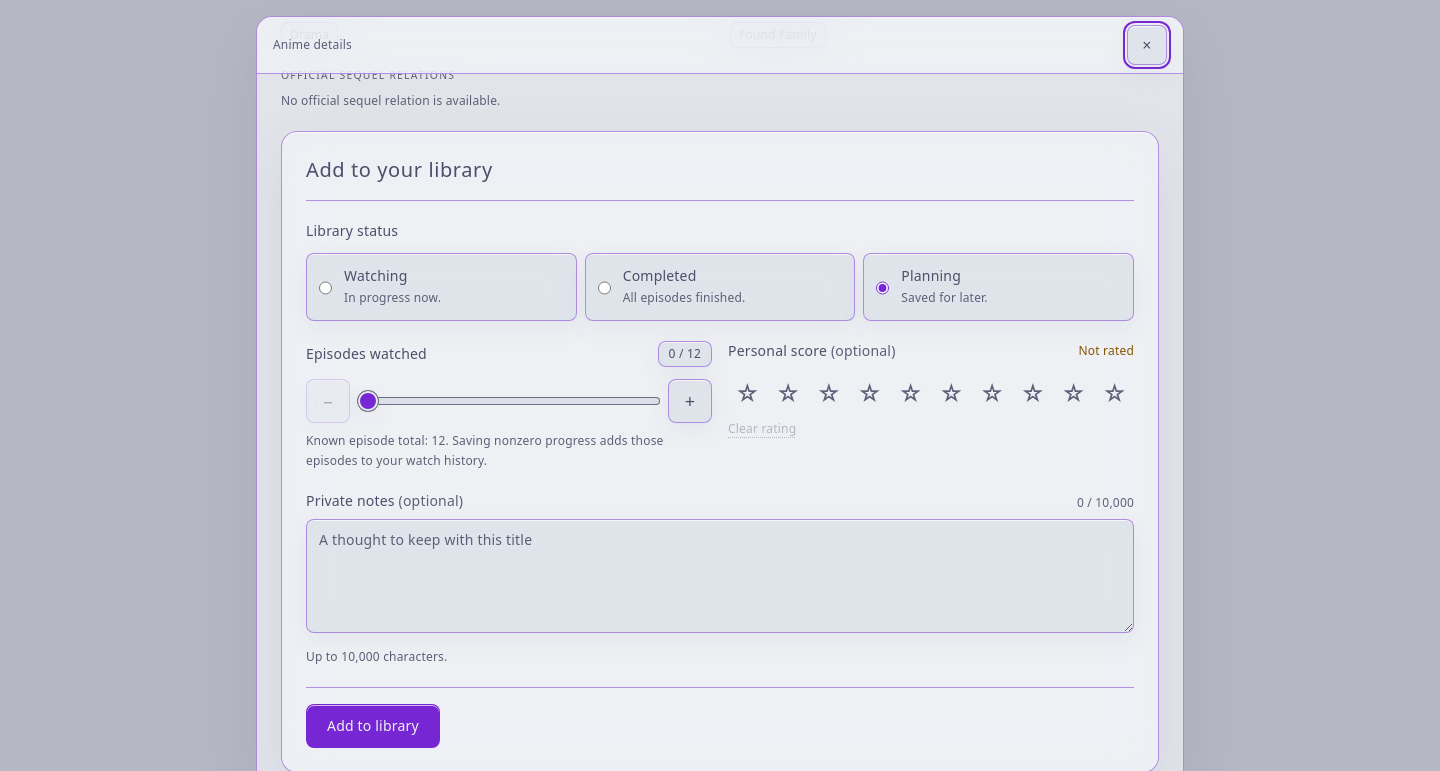
Test: MediaDetailsDialog › forwards saved and removed entries while keeping editor state in sync
This screenshot has width=1440, height=771.
(page scrolled)
Step 1. Click the button "Add to library" → (373, 726), box [306,704,440,748]
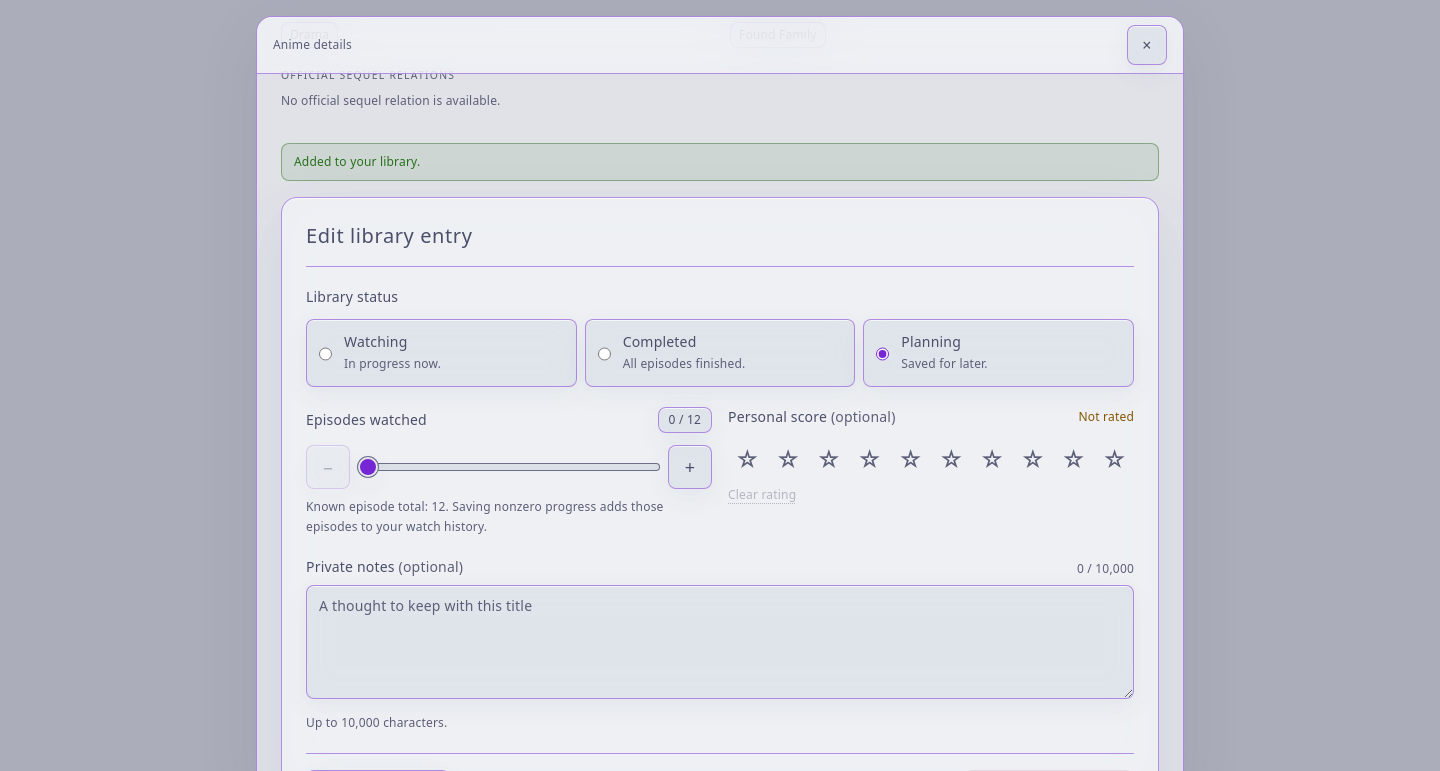
Now the heading "Edit library entry" is shown, box [306,222,472,249]
Step 2. Type "Watch again." into the text box labelled "Private notes (optional)" → (720, 642), box [306,585,1134,699]
(page scrolled)
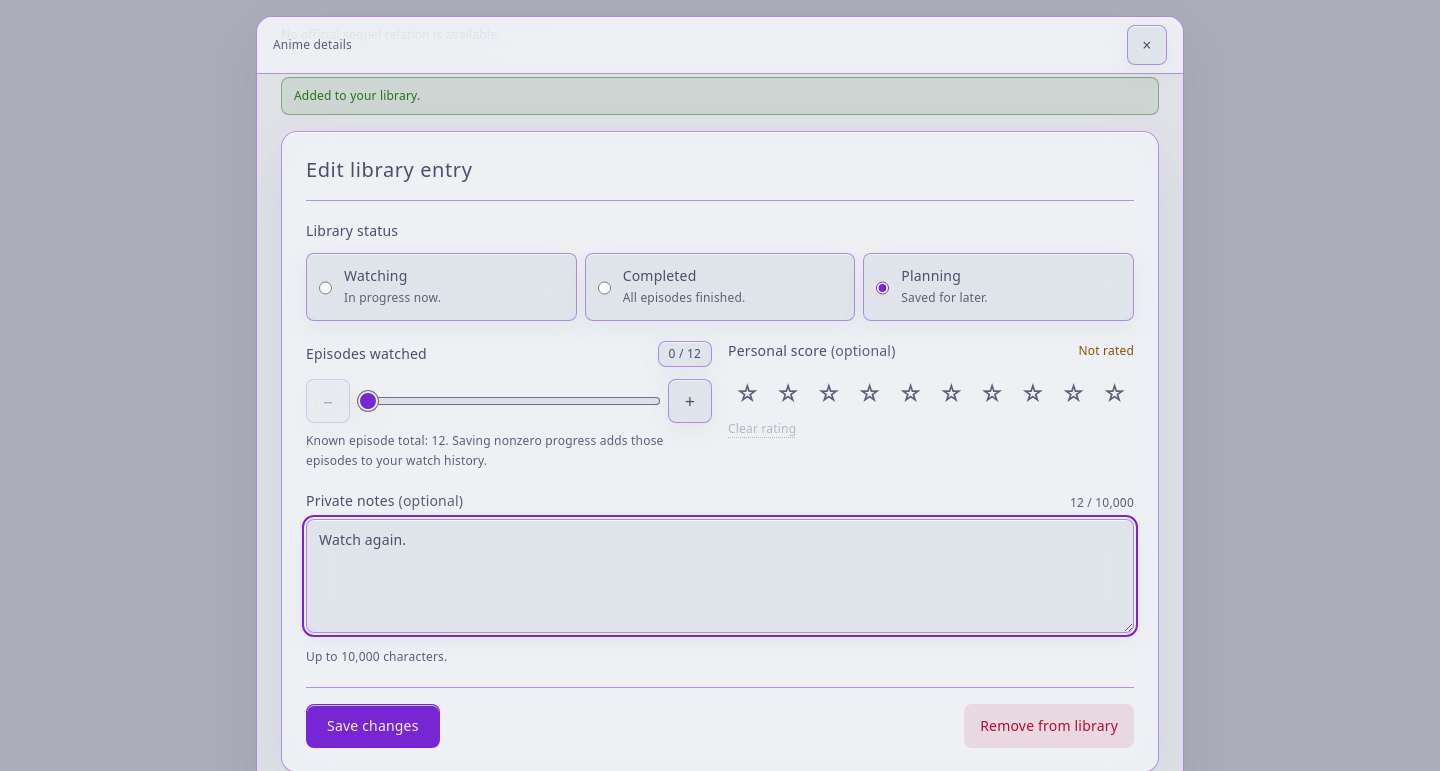
Now the button "Save changes" is enabled
Step 3. Click the button "Save changes" → (373, 726), box [306,704,440,748]
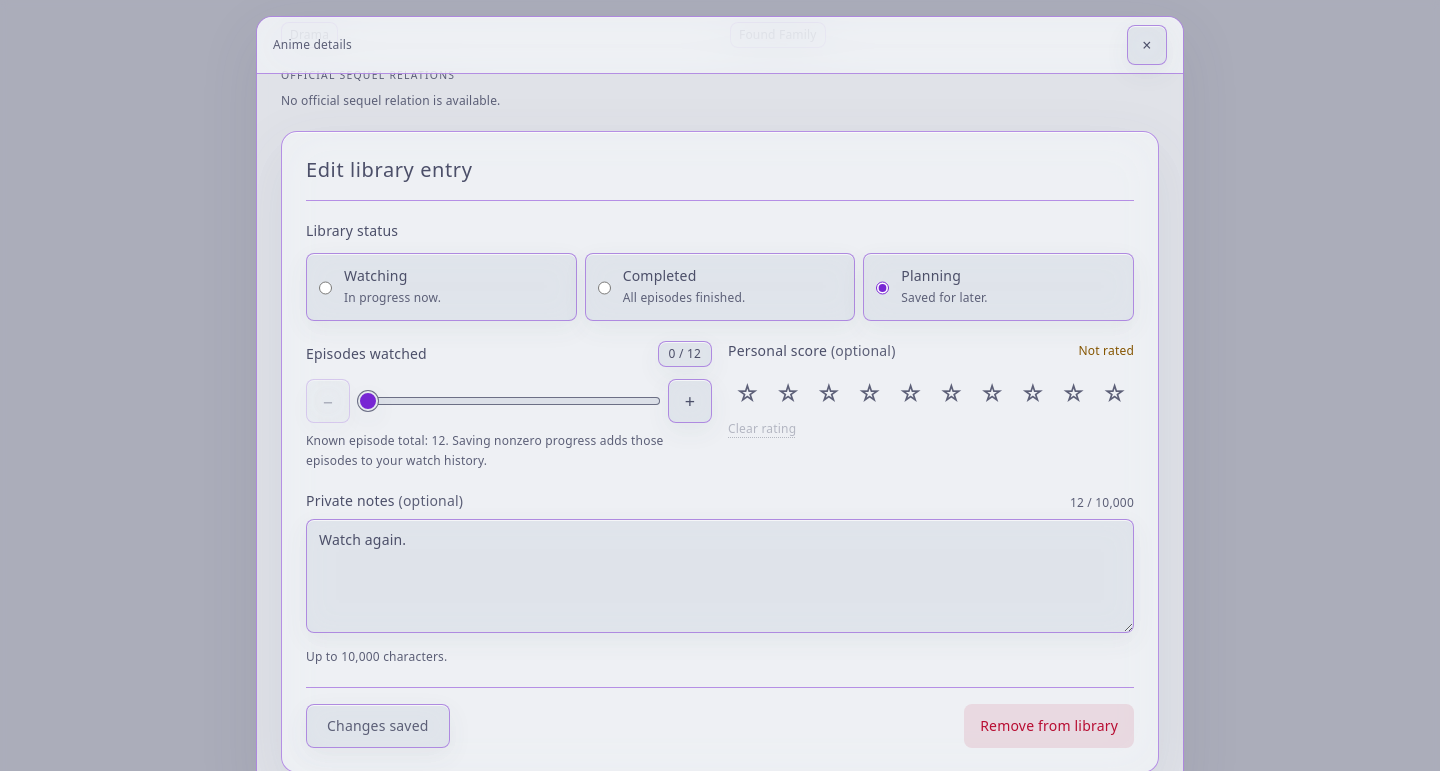
Now the button named "Save changes" is disabled, box [306,704,450,748]
Step 4. Click the button "Remove from library" → (1049, 726), box [964,704,1134,748]
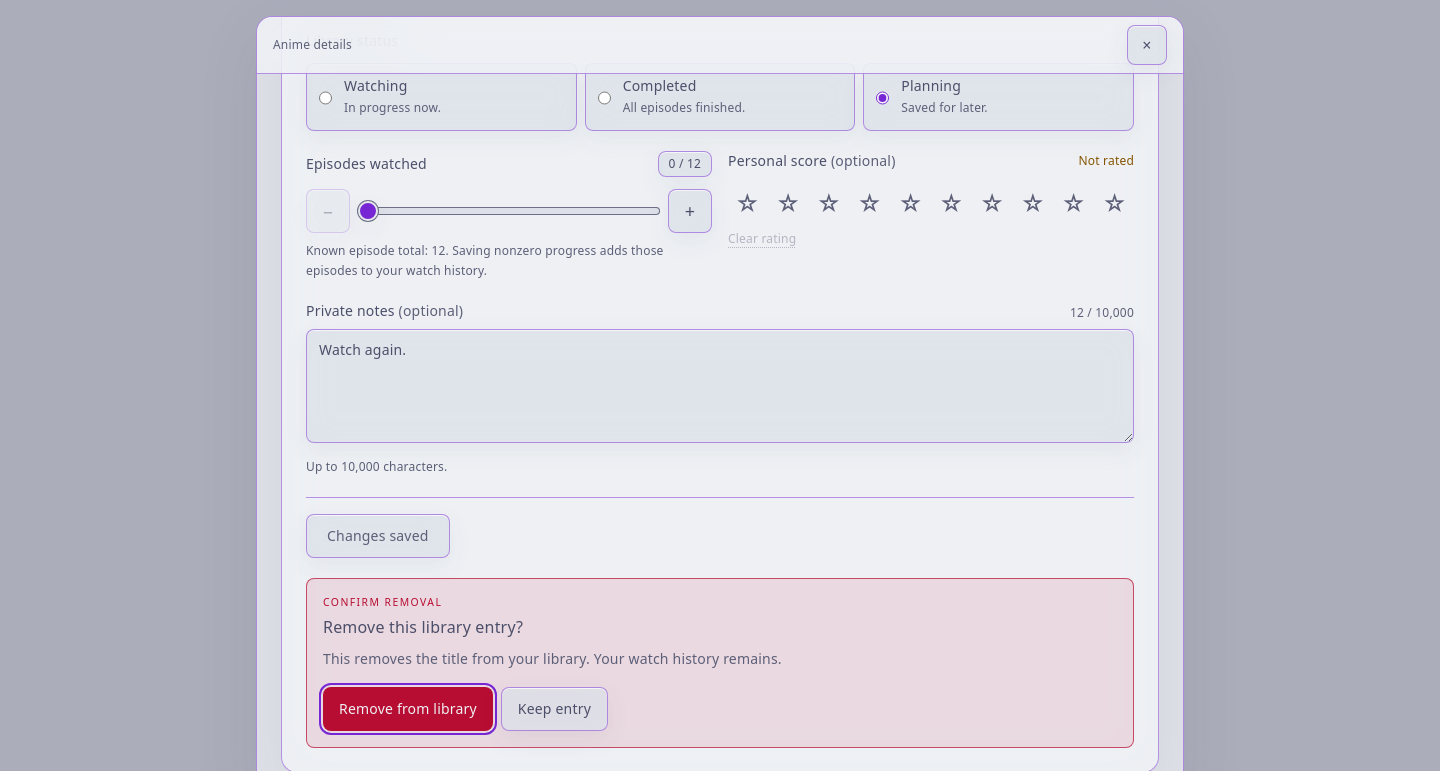
Step 5. Click the button "Remove from library" → (408, 709), box [323,687,493,731]
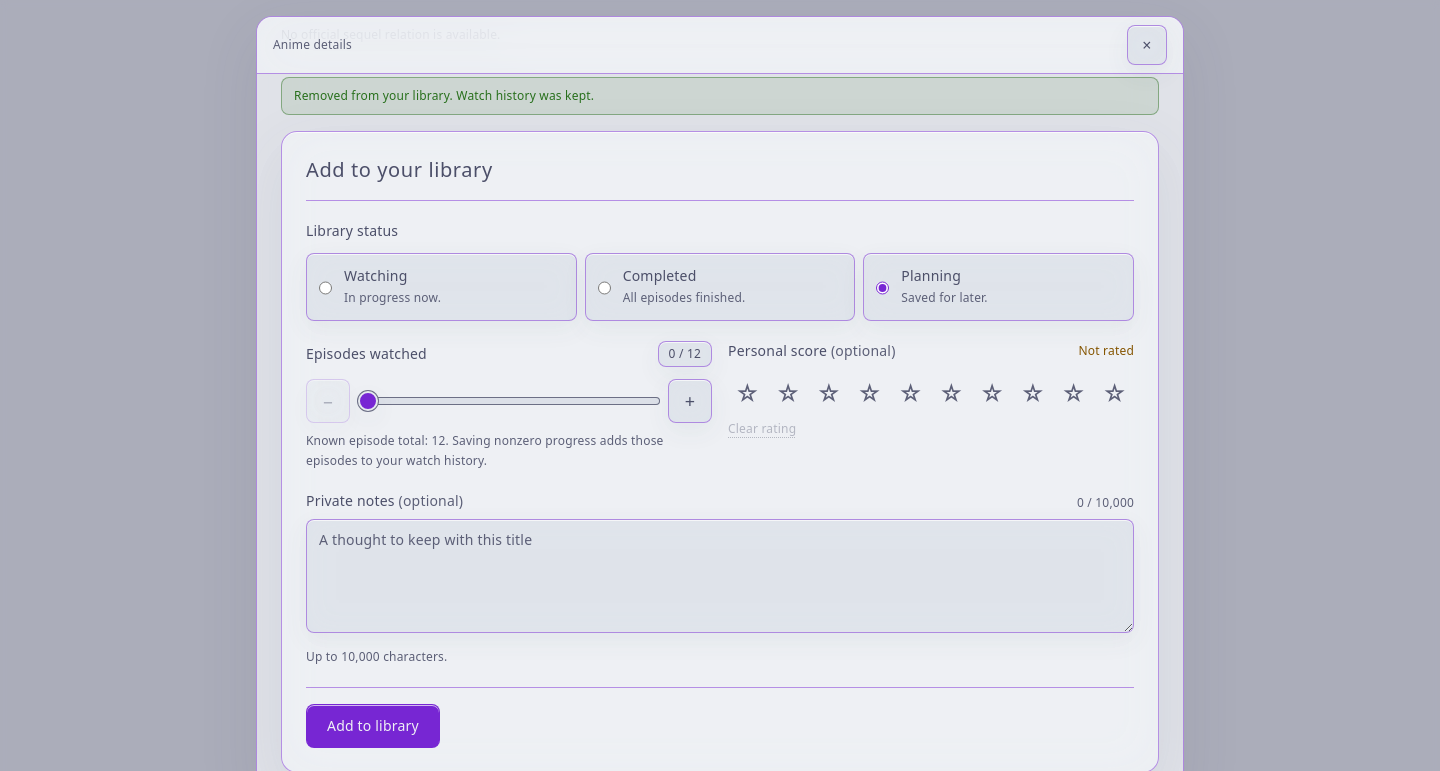
Now the heading "Add to your library" is shown, box [306,156,493,183]
